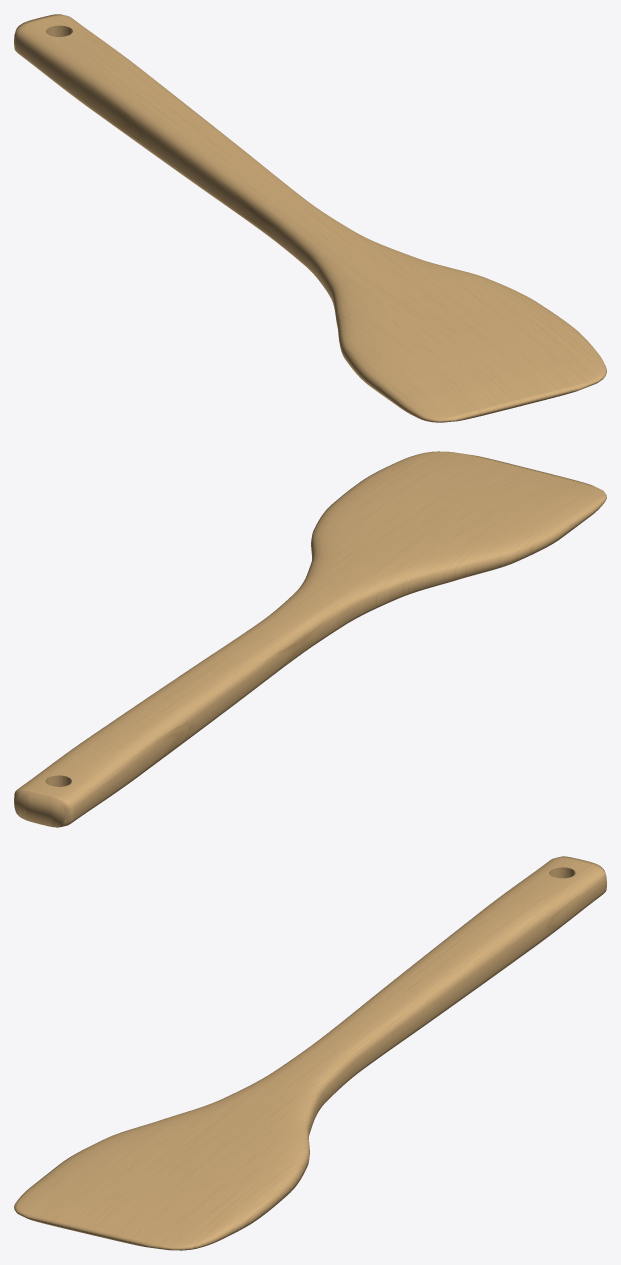
Rendered from wood_cooking_spatula.glb.
3 renders of one model, top to bottom at view 1: azimuth 30°, elevation 25°; view 2: azimuth 150°, elevation 25°; view 3: azimuth 330°, elevation 25°, orthographic. The views are drawn at different scales.
Parts seen in each view (by area): view 1: One-piece tapered asymmetric rubberwood paddle; view 2: One-piece tapered asymmetric rubberwood paddle; view 3: One-piece tapered asymmetric rubberwood paddle.
Part boxes in pixels (x1,y1,x2,y2): One-piece tapered asymmetric rubberwood paddle: (14,14,606,422); One-piece tapered asymmetric rubberwood paddle: (14,451,606,827); One-piece tapered asymmetric rubberwood paddle: (14,856,606,1250).
Bounding box in the file's own units: 0.07 × 0.0122 × 0.29.
1 material, 1 textured.
